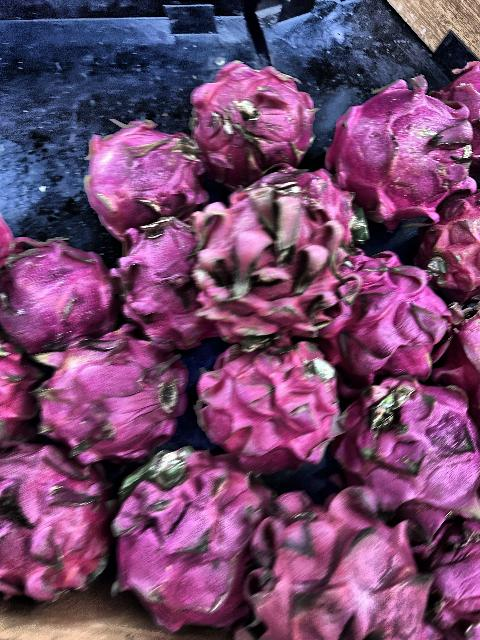buah-naga-matang: (246, 470, 426, 640), (124, 445, 250, 639), (330, 65, 480, 217), (198, 185, 348, 333), (198, 325, 346, 475), (336, 368, 478, 524), (0, 440, 112, 608), (32, 338, 190, 456), (350, 239, 452, 381), (0, 236, 122, 354), (84, 123, 213, 233), (105, 220, 209, 348), (184, 68, 318, 164)
